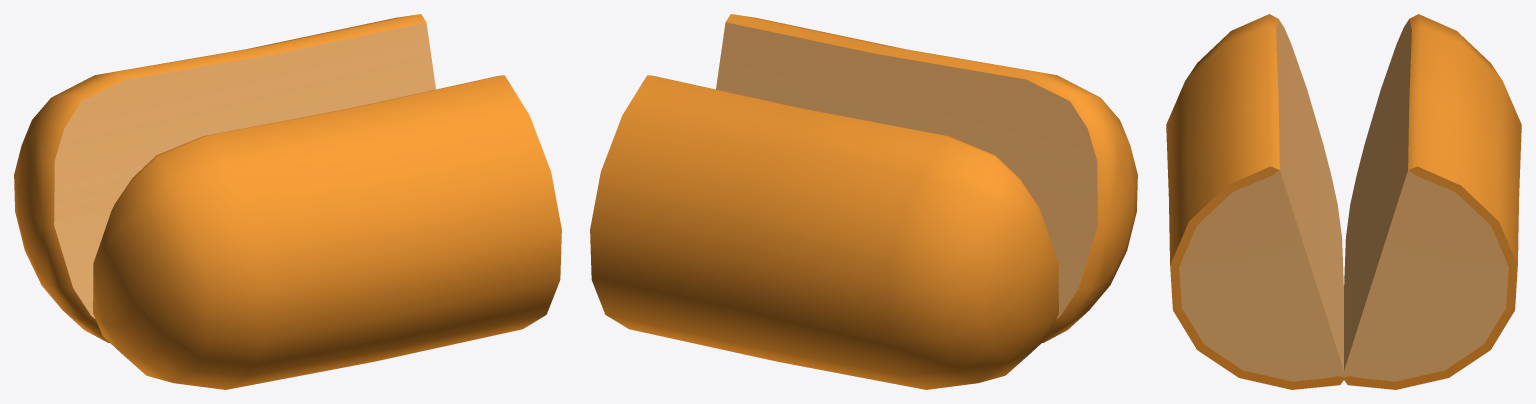
The model's file is HotDog_bun_half.002.fbx.
3 renders of one model, left to right at view 1: azimuth 30°, elevation 25°; view 2: azimuth 150°, elevation 25°; view 3: azimuth 270°, elevation 25°, orthographic. The views are drawn at different scales.
Visible parts, largest first — view 1: HotDog_bun_half.002; view 2: HotDog_bun_half.002; view 3: HotDog_bun_half.002.
Boxes of the visible parts, x1,y1,x2,y2 form: HotDog_bun_half.002: (14,14,561,389); HotDog_bun_half.002: (590,14,1137,389); HotDog_bun_half.002: (1166,14,1521,389).
Bounding box in the file's own units: 76.52 × 67.97 × 49.74.
